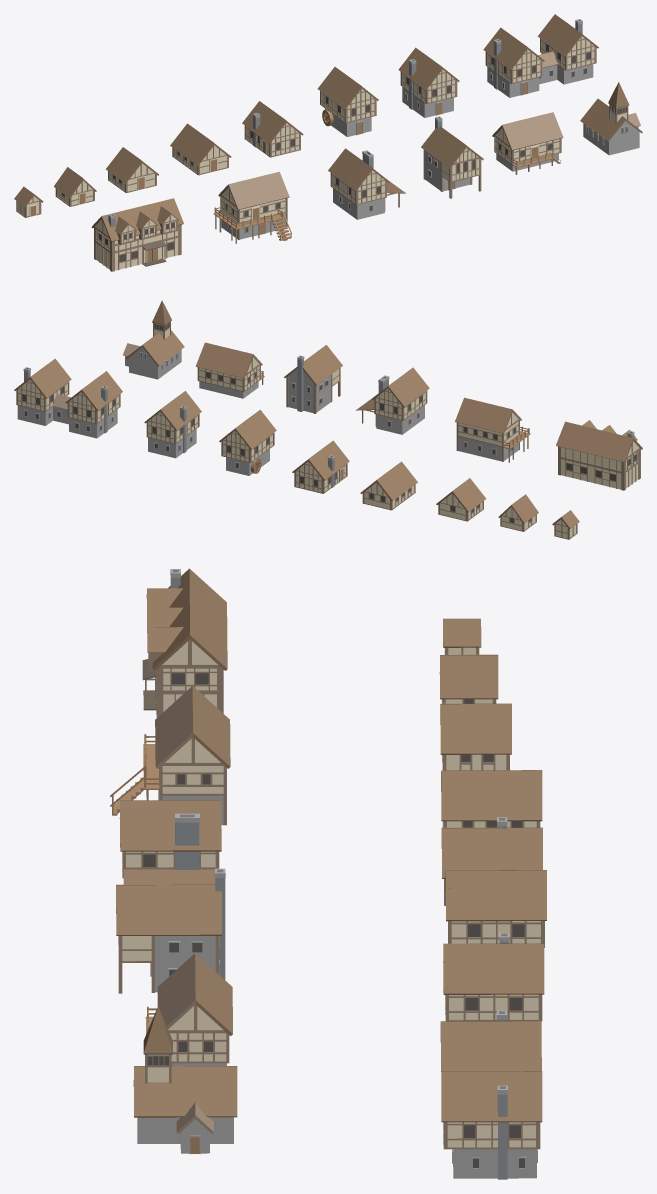
The model's file is free_medieval_house_low_poly.glb.
The picture shows the model from 3 angles, top to bottom: view 1: azimuth 30°, elevation 25°; view 2: azimuth 150°, elevation 25°; view 3: azimuth 270°, elevation 25°; orthographic projection. The views are drawn at different scales.
Parts seen in each view (by area): view 1: mergedBlocks; view 2: mergedBlocks; view 3: mergedBlocks.
Boxes of the visible parts, box(x1,y1,x2,y2) form: mergedBlocks: box(14, 14, 642, 271); mergedBlocks: box(14, 300, 642, 539); mergedBlocks: box(110, 568, 546, 1179).
Size of the model in its own units: 38.02 by 4.18 by 13.29.
